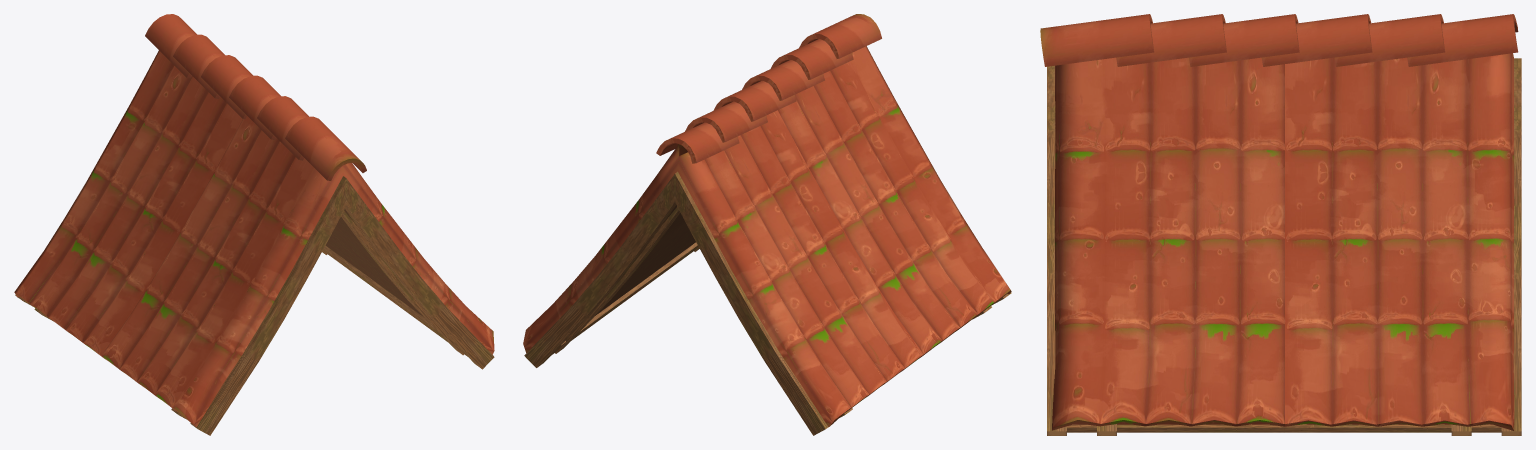
File: Roof_RoundTiles_4x4.gltf
The picture shows the model from 3 angles, left to right: view 1: azimuth 30°, elevation 25°; view 2: azimuth 150°, elevation 25°; view 3: azimuth 270°, elevation 25°; orthographic projection. The views are drawn at different scales.
Parts seen in each view (by area): view 1: Roof_RoundTiles_4x4; view 2: Roof_RoundTiles_4x4; view 3: Roof_RoundTiles_4x4.
Part boxes in pixels (box(x1,y1,x2,y2)): Roof_RoundTiles_4x4: box(14, 14, 494, 435); Roof_RoundTiles_4x4: box(523, 14, 1011, 435); Roof_RoundTiles_4x4: box(1040, 14, 1521, 435).
Size of the model in its own units: 5.51 by 4.25 by 5.56.
2 materials, 2 textured.
